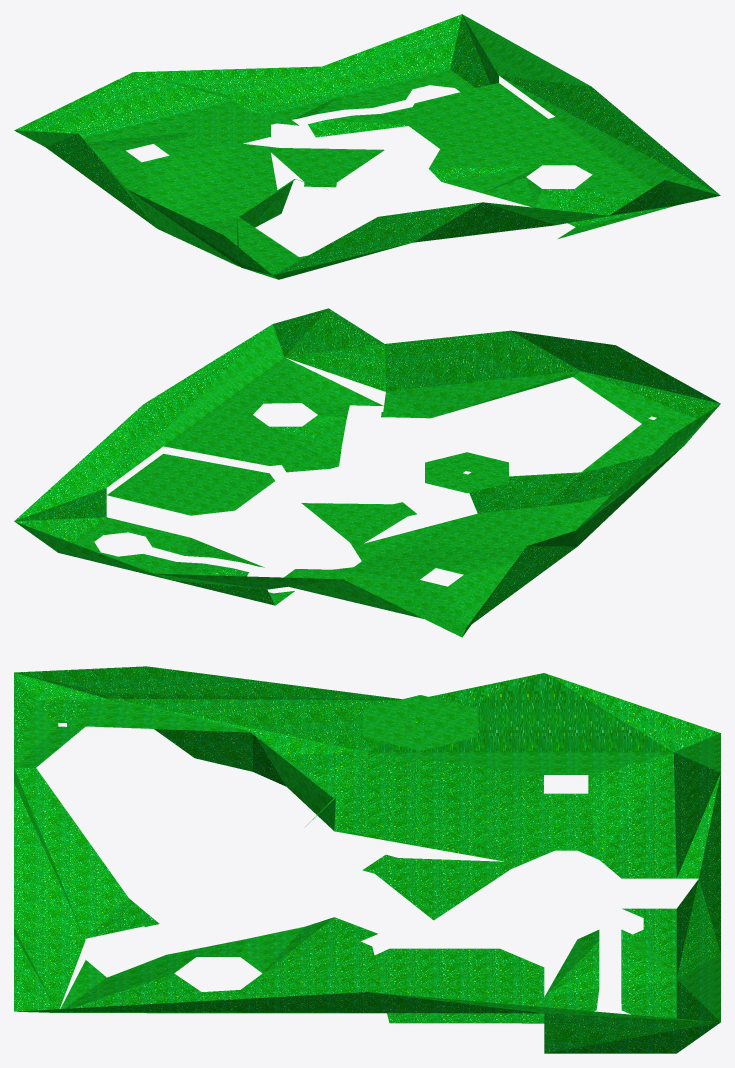
The model's file is sleep.fbx.
The picture shows the model from 3 angles, top to bottom: view 1: azimuth 30°, elevation 25°; view 2: azimuth 150°, elevation 25°; view 3: azimuth 270°, elevation 25°; orthographic projection. The views are drawn at different scales.
Parts seen in each view (by area): view 1: Shape_IndexedFaceSet.001; view 2: Shape_IndexedFaceSet.001; view 3: Shape_IndexedFaceSet.001.
Part boxes in pixels (box(x1,y1,x2,y2)): Shape_IndexedFaceSet.001: box(14, 14, 720, 279); Shape_IndexedFaceSet.001: box(14, 308, 720, 637); Shape_IndexedFaceSet.001: box(14, 666, 720, 1053).
Size of the model in its own units: 163853 by 37356 by 163837.
1 material, 1 textured.
